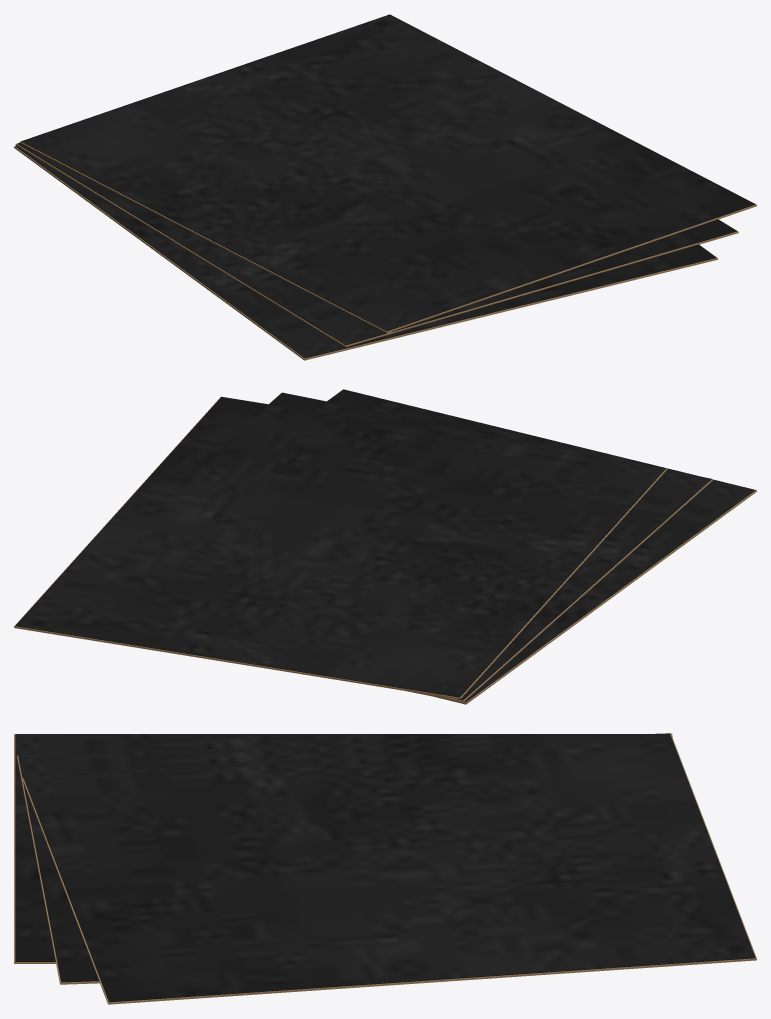
File: HID-INS-003_lod1.glb
3 renders of one model, top to bottom at view 1: azimuth 30°, elevation 25°; view 2: azimuth 150°, elevation 25°; view 3: azimuth 270°, elevation 25°, orthographic. The views are drawn at different scales.
Visible parts, largest first — view 1: HID-INS-003_abrasivo2, HID-INS-003_abrasivo0, HID-INS-003_abrasivo1, HID-INS-003_folha0, HID-INS-003_folha2, HID-INS-003_folha1; view 2: HID-INS-003_abrasivo2, HID-INS-003_abrasivo0, HID-INS-003_abrasivo1, HID-INS-003_folha2, HID-INS-003_folha0, HID-INS-003_folha1; view 3: HID-INS-003_abrasivo2, HID-INS-003_abrasivo1, HID-INS-003_abrasivo0, HID-INS-003_folha2, HID-INS-003_folha1, HID-INS-003_folha0.
Part boxes in pixels (x1=…): HID-INS-003_abrasivo2: x1=21, y1=14, x2=755, y2=331; HID-INS-003_abrasivo0: x1=15, y1=145, x2=716, y2=358; HID-INS-003_abrasivo1: x1=17, y1=143, x2=737, y2=345; HID-INS-003_folha0: x1=14, y1=146, x2=717, y2=360; HID-INS-003_folha2: x1=19, y1=14, x2=756, y2=333; HID-INS-003_folha1: x1=15, y1=143, x2=738, y2=347; HID-INS-003_abrasivo2: x1=15, y1=396, x2=665, y2=697; HID-INS-003_abrasivo0: x1=327, y1=389, x2=755, y2=702; HID-INS-003_abrasivo1: x1=269, y1=392, x2=711, y2=700; HID-INS-003_folha2: x1=14, y1=397, x2=667, y2=699; HID-INS-003_folha0: x1=327, y1=389, x2=756, y2=704; HID-INS-003_folha1: x1=269, y1=392, x2=713, y2=702; HID-INS-003_abrasivo2: x1=23, y1=733, x2=755, y2=1002; HID-INS-003_abrasivo1: x1=18, y1=733, x2=670, y2=982; HID-INS-003_abrasivo0: x1=15, y1=734, x2=645, y2=961; HID-INS-003_folha2: x1=22, y1=733, x2=756, y2=1004; HID-INS-003_folha1: x1=17, y1=733, x2=672, y2=984; HID-INS-003_folha0: x1=14, y1=734, x2=55, y2=963.
Bounding box in the file's own units: 0.2748 × 0.00291 × 0.3165.
2 materials, 2 textured.
